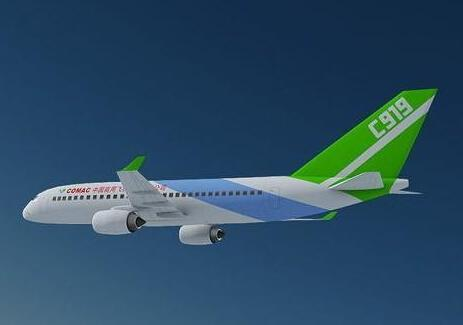airplane: (23, 84, 440, 247)
